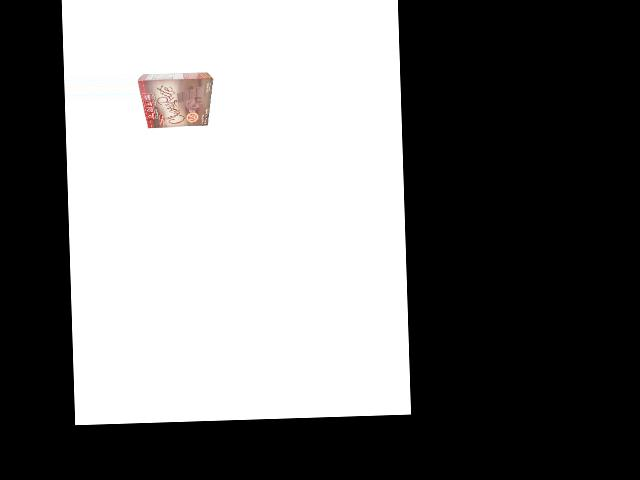chocolate: (139, 72, 214, 129)
